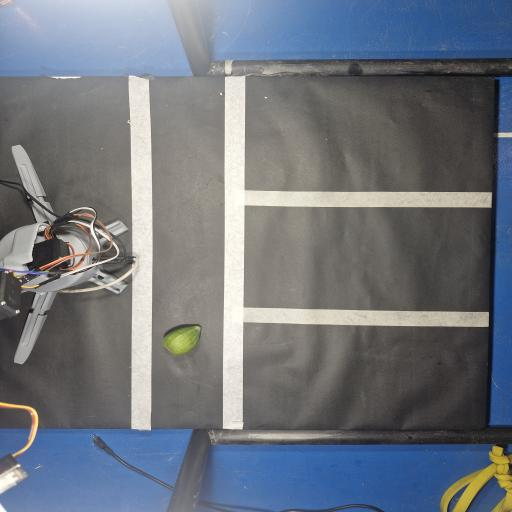higo: (163, 325, 201, 355)
